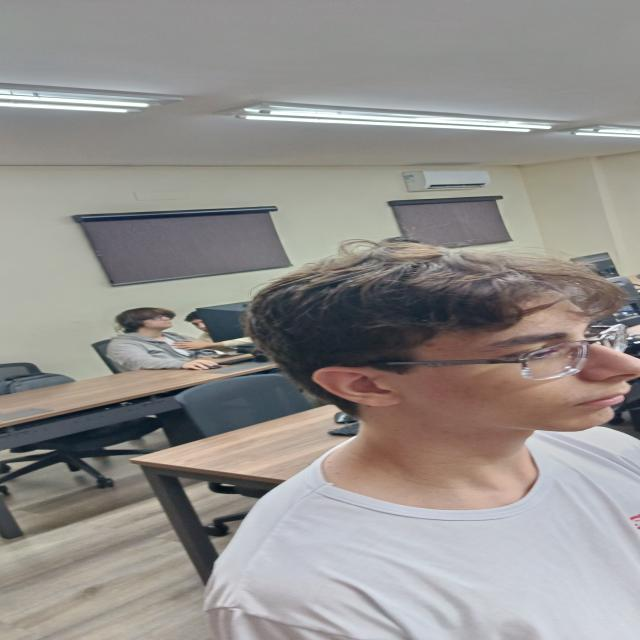sem_oculos: (377, 325, 626, 380), (142, 316, 172, 321), (186, 322, 206, 325)
